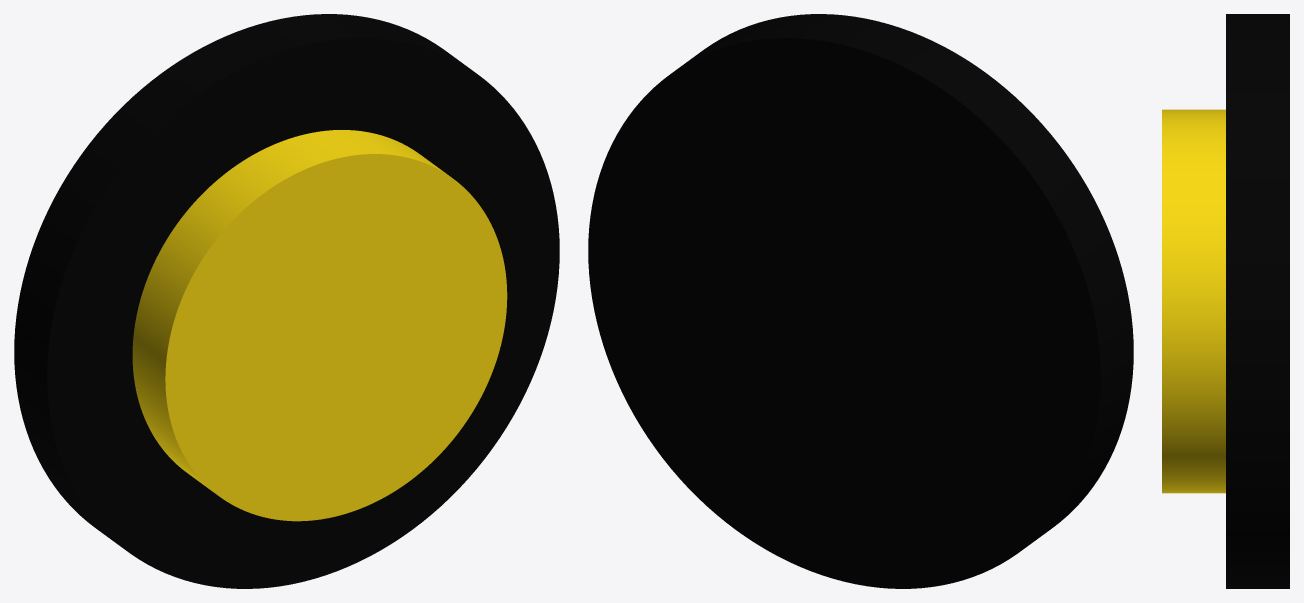
Rendered from Spotlight.gltf.
3 views of the same model, side by side, from view 1: azimuth 30°, elevation 25°; view 2: azimuth 150°, elevation 25°; view 3: azimuth 270°, elevation 25° (orthographic). The views are drawn at different scales.
Parts seen in each view (by area): view 1: Part 1; view 2: Part 1; view 3: Part 1.
Part boxes in pixels (left/top/right/bottom): Part 1: left=14, top=14, right=559, bottom=588; Part 1: left=588, top=14, right=1133, bottom=588; Part 1: left=1162, top=14, right=1289, bottom=588.
Bounding box in the file's own units: 0.045 × 0.045 × 0.01.
